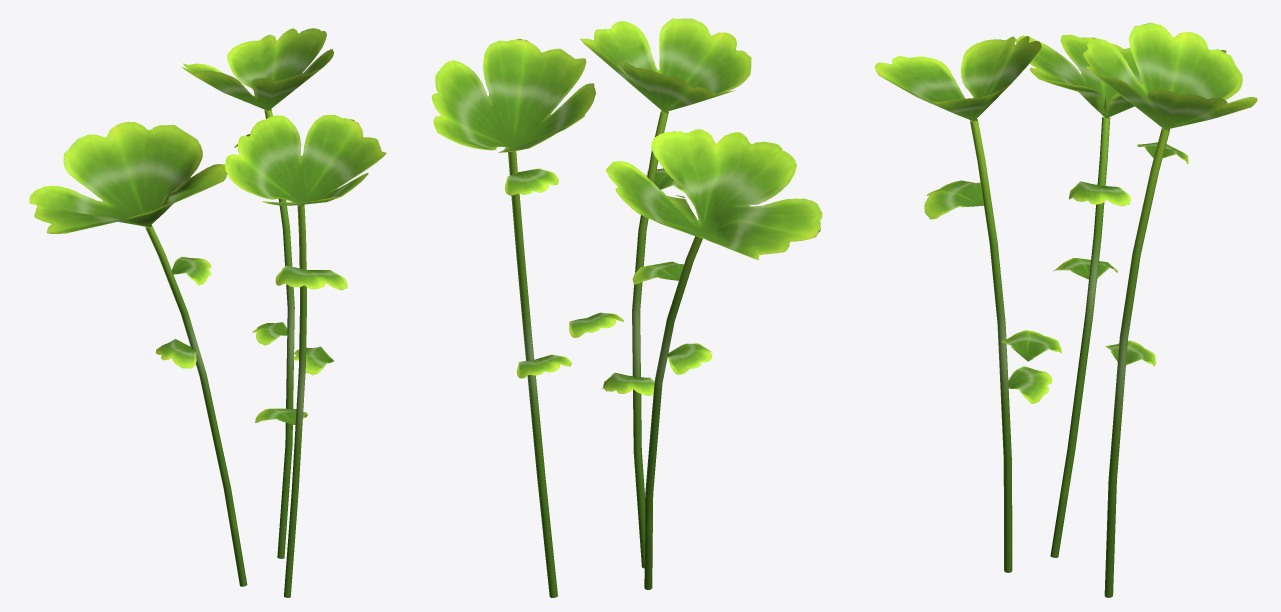
File: Clover_1.gltf
3 views of the same model, side by side, from view 1: azimuth 30°, elevation 25°; view 2: azimuth 150°, elevation 25°; view 3: azimuth 270°, elevation 25° (orthographic). The views are drawn at different scales.
Visible parts, largest first — view 1: Clover_1; view 2: Clover_1; view 3: Clover_1.
Boxes of the visible parts, left/top/right/bottom form: Clover_1: left=29, top=28, right=386, bottom=597; Clover_1: left=431, top=18, right=822, bottom=597; Clover_1: left=874, top=22, right=1257, bottom=597.
Bounding box in the file's own units: 0.7947 × 1.15 × 0.769.
Materials: 1 (1 with a texture image).
